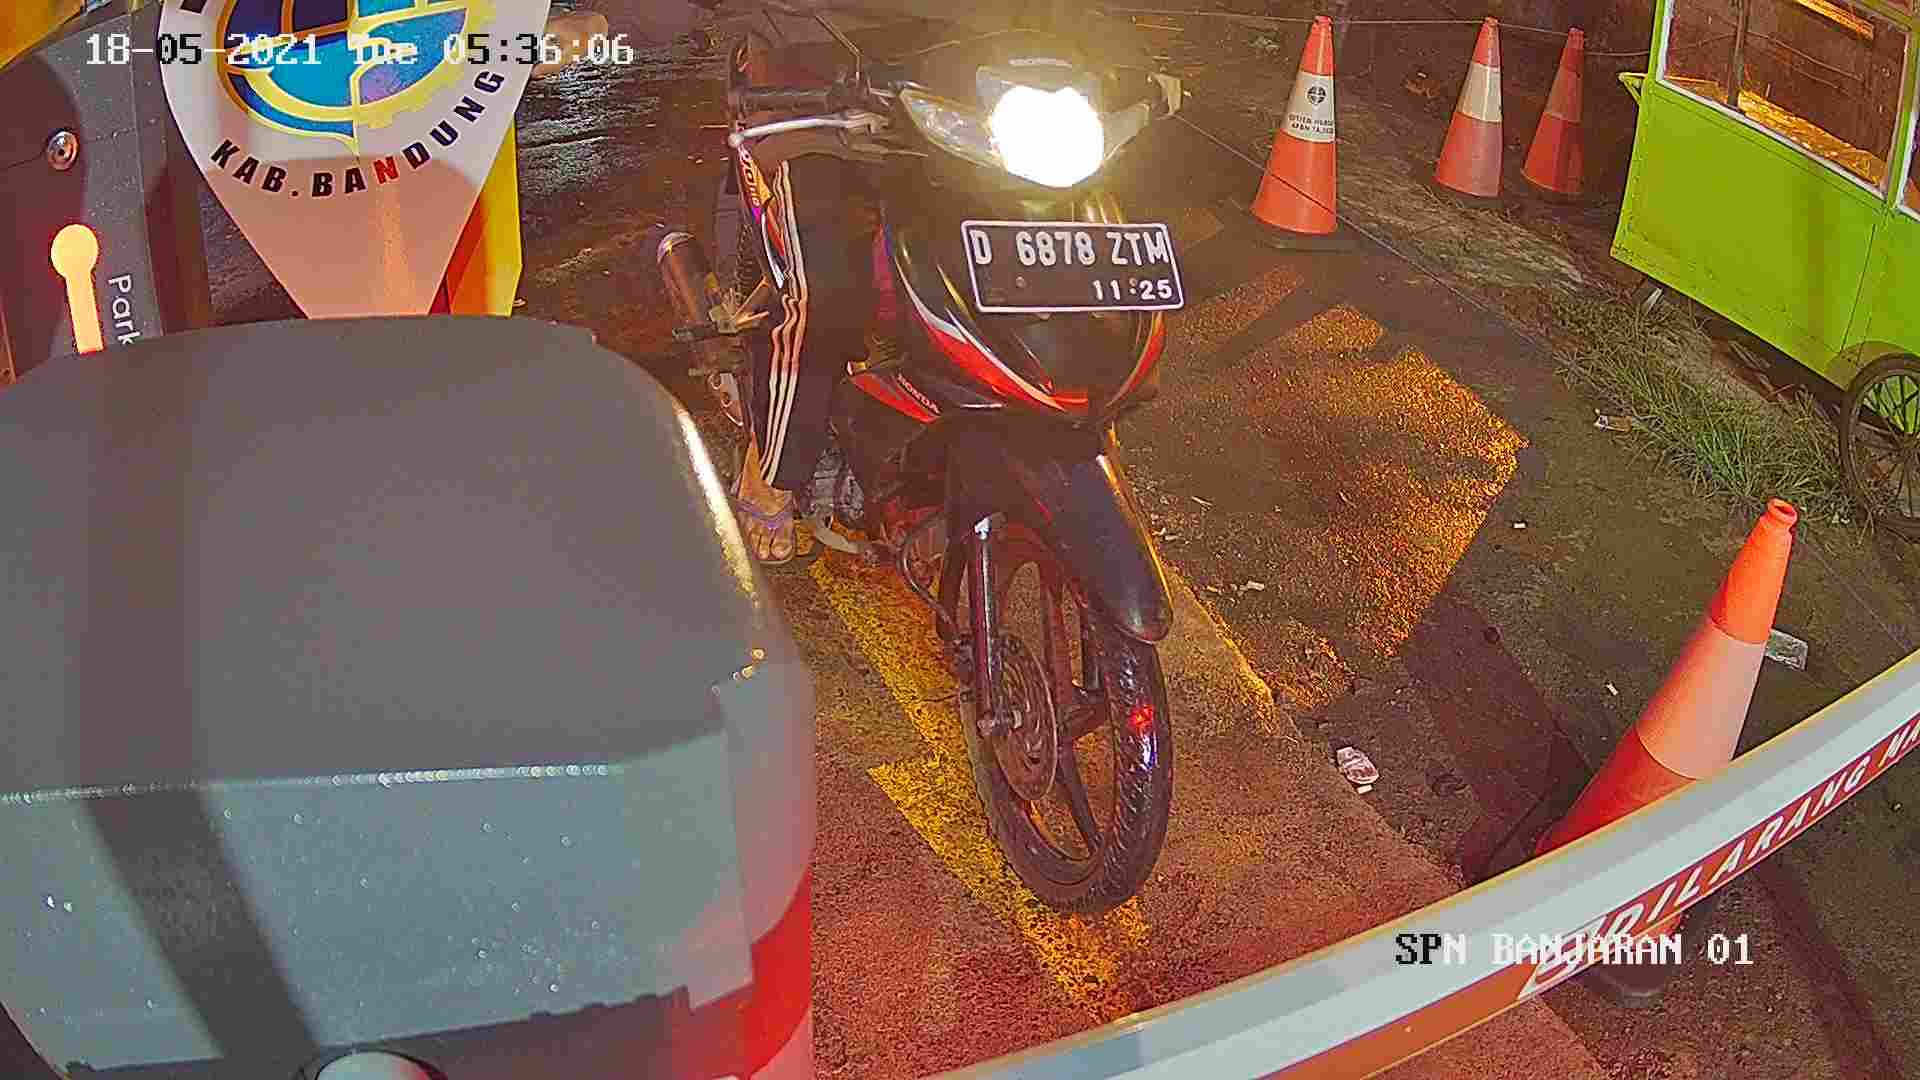motor: (703, 66, 1287, 934)
